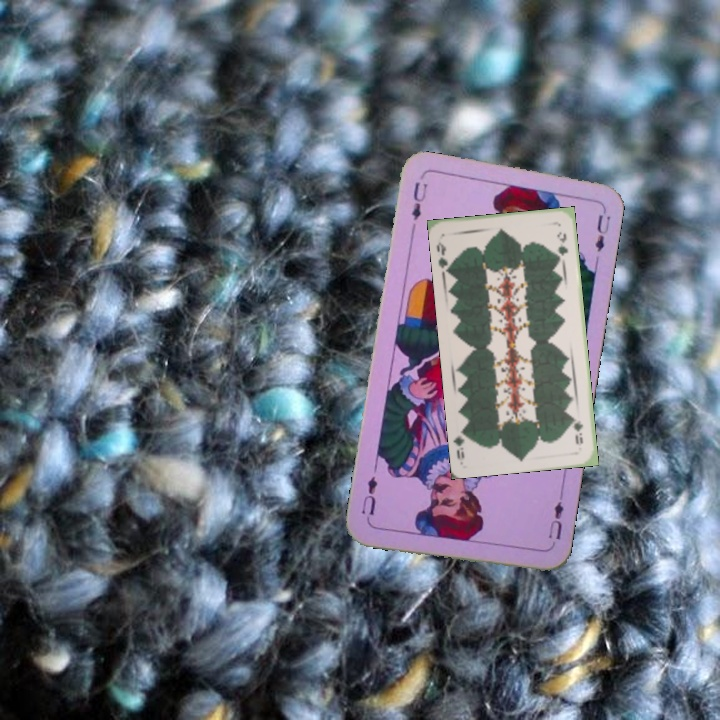EU: (407, 178, 430, 223), (544, 497, 566, 542)
G9: (432, 238, 454, 274), (570, 413, 586, 447)
